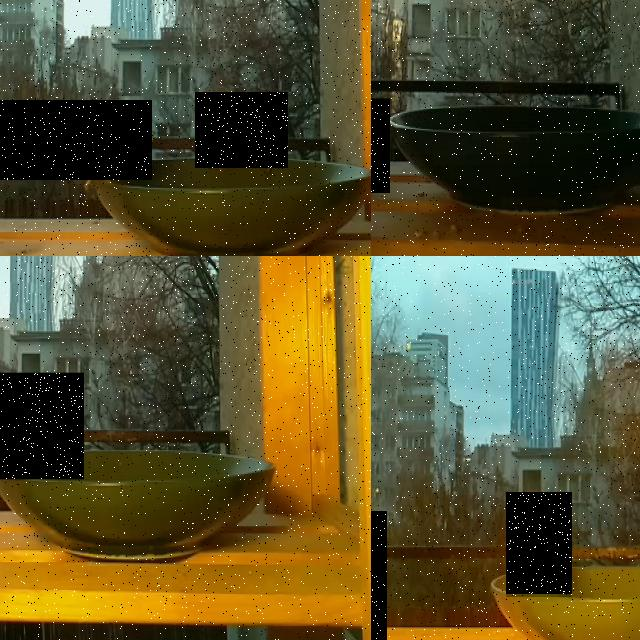Bogatka: (0, 100, 152, 180)
Modraszka: (371, 98, 390, 192)
Wrobel: (0, 372, 84, 479), (195, 92, 288, 168), (506, 492, 572, 596)
